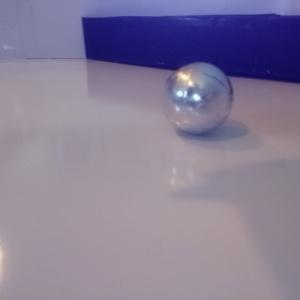zone: (82, 12, 300, 83)
